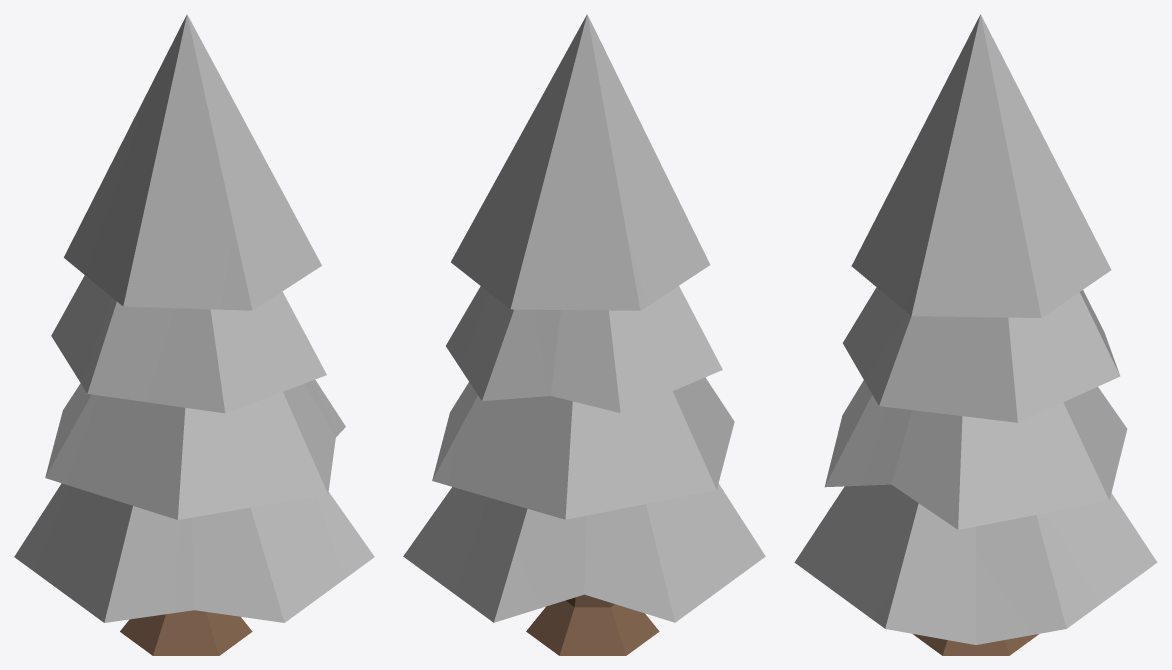
File: arbol2.fbx
3 renders of one model, left to right at view 1: azimuth 30°, elevation 25°; view 2: azimuth 150°, elevation 25°; view 3: azimuth 270°, elevation 25°, orthographic.
Parts seen in each view (by area): view 1: Tree 3.001; view 2: Tree 3.001; view 3: Tree 3.001.
Part boxes in pixels (<box>): Tree 3.001: <box>14,14,374,655</box>; Tree 3.001: <box>403,14,765,655</box>; Tree 3.001: <box>794,14,1157,655</box>.
Bounding box in the file's own units: 215 × 446 × 237.
